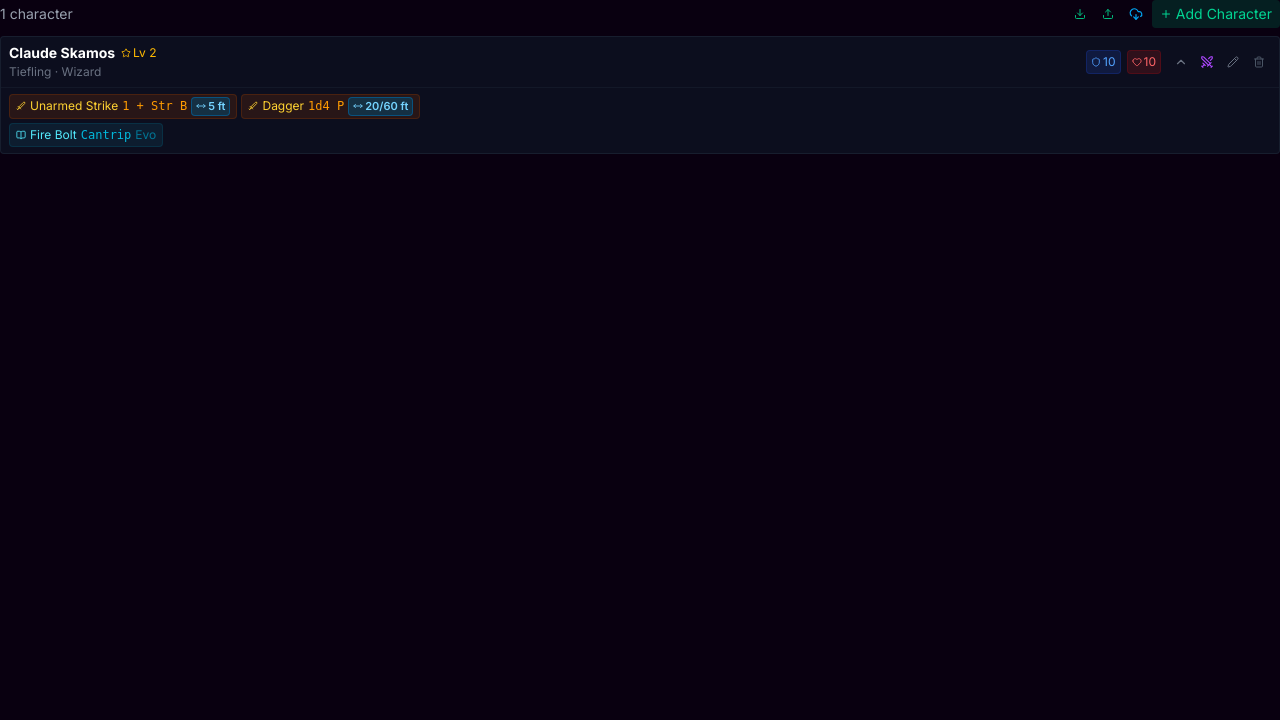
Scenario: PartyWidget — collapsed rows + character sheet › lays the sheet out with combat numbers, abilities on the left, weapons + spells on the right
The width and height of the screenshot is (1280, 720).
Click the element titled "View character sheet". click: (62, 52)
box: 1,37 -> 1279,87
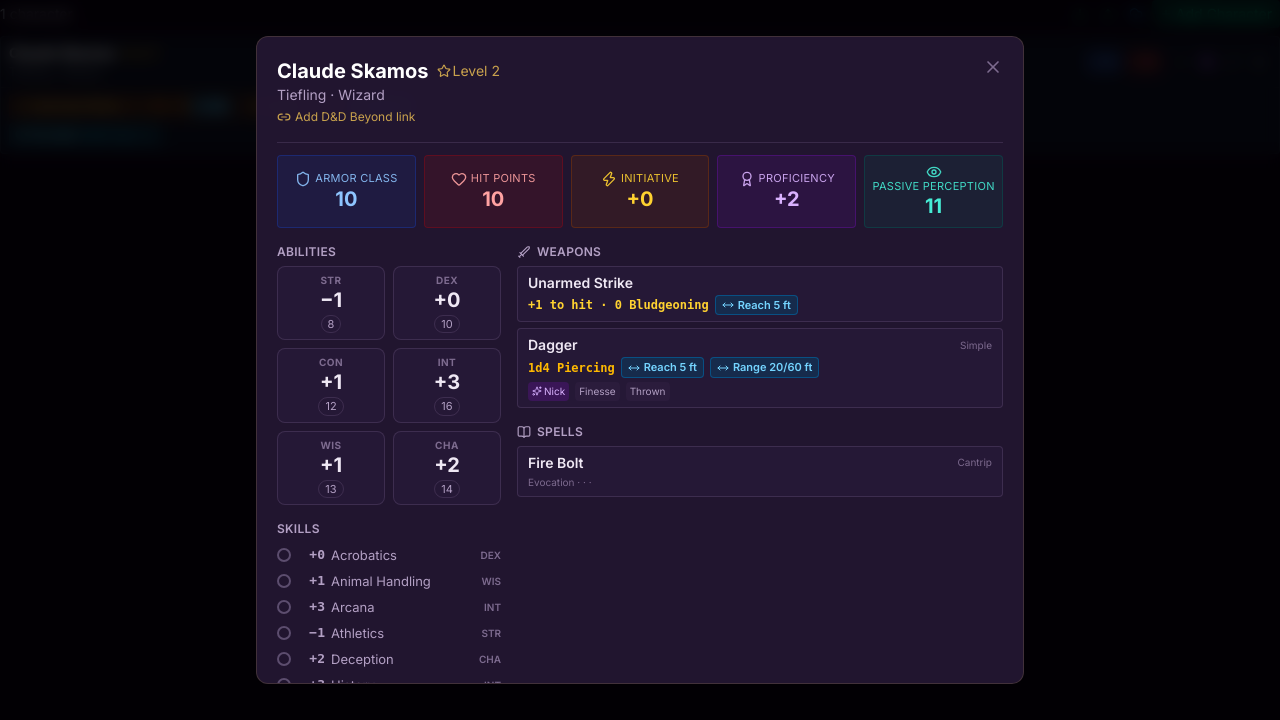
Expected: the element titled "Intelligence" shows "+3", 434,370 -> 460,394
Expected: the element titled "Intelligence" shows "16", 441,399 -> 453,413
Expected: the element showing "Proficiency +2" is shown, 717,155 -> 856,228
